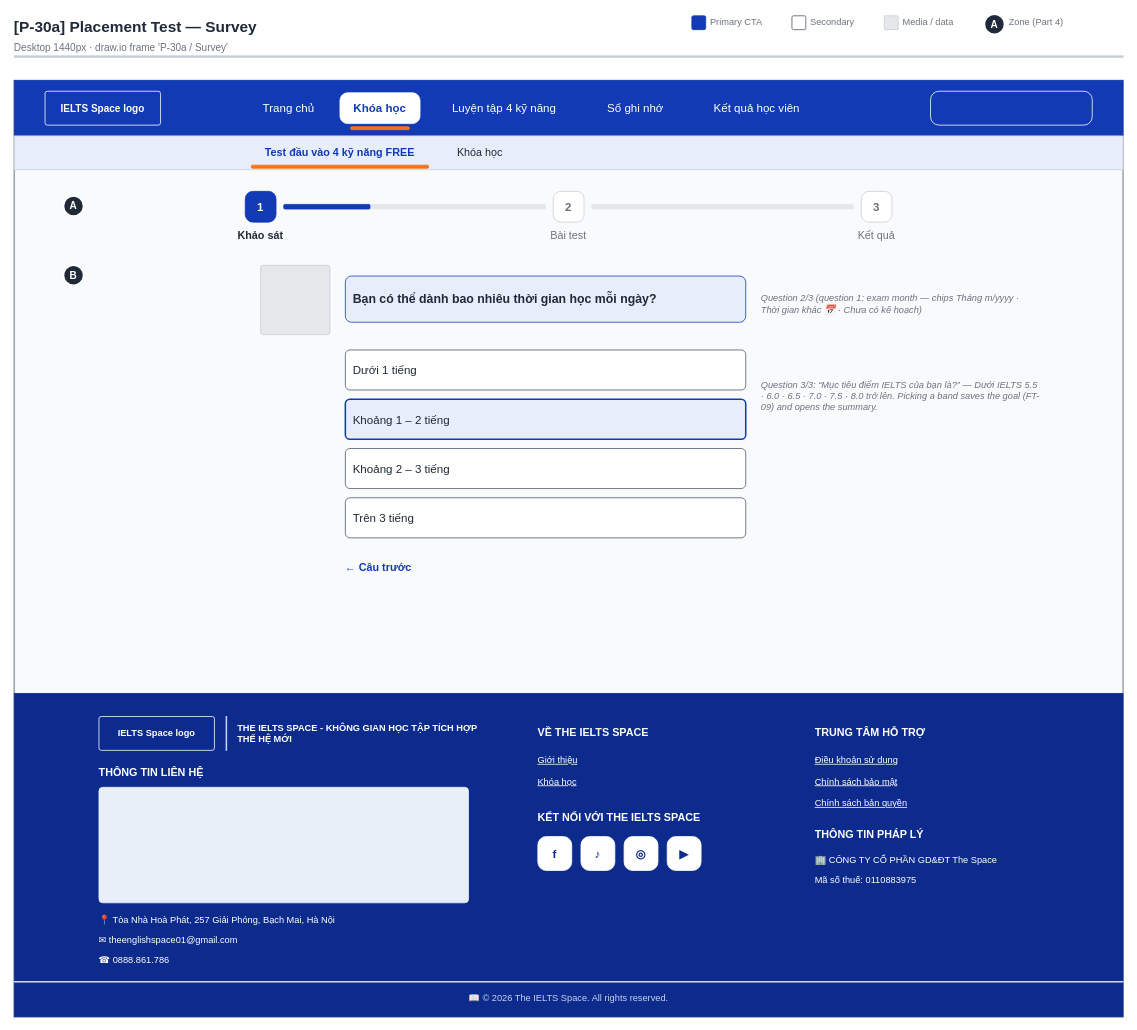
The diagram is 1137 pixels wide and 1030 high, and some of its shapes have lost their labels. Each missing label, with the box of its shape:
▨ Mascot: (260, 264, 330, 335)
◯ Học viên · 30 Points ▾: (930, 90, 1092, 125)
📍 The IELTS Space Mở trong Maps ↗: (98, 787, 469, 903)
